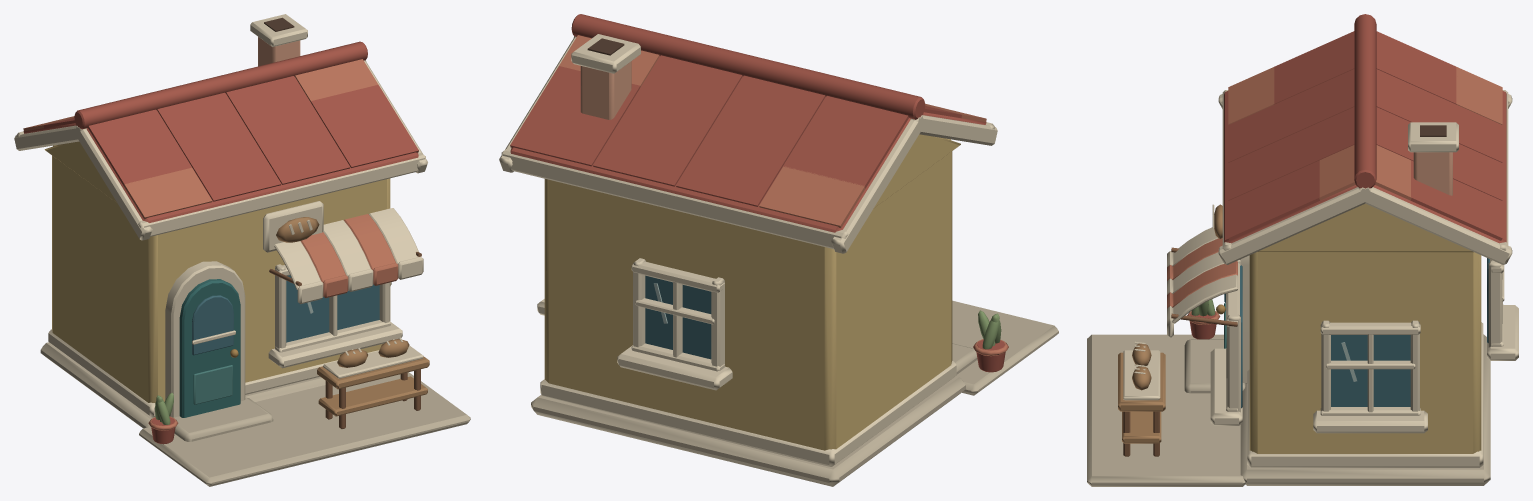
Rendered from bakery_level_2.glb.
3 renders of one model, left to right at view 1: azimuth 30°, elevation 25°; view 2: azimuth 150°, elevation 25°; view 3: azimuth 270°, elevation 25°, orthographic. The views are drawn at different scales.
Visible parts, largest first — view 1: bakery_level_2_runtime; view 2: bakery_level_2_runtime; view 3: bakery_level_2_runtime.
Boxes of the visible parts, x1,y1,x2,y2 form: bakery_level_2_runtime: (14,14,470,486); bakery_level_2_runtime: (499,14,1058,486); bakery_level_2_runtime: (1087,14,1518,486).
Size of the model in its own units: 3.59 by 3.49 by 4.06.
